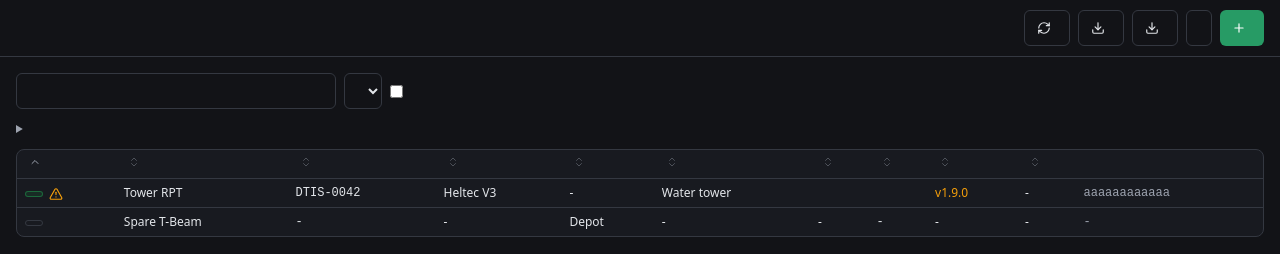
it: Fleet attention, log, vault and key generation › marks assets that need attention and can show only those
This screenshot has width=1280, height=254.
Click the checkbox with test id "fleet-attention-only".
click(396, 91)  # box [390,84,403,98]
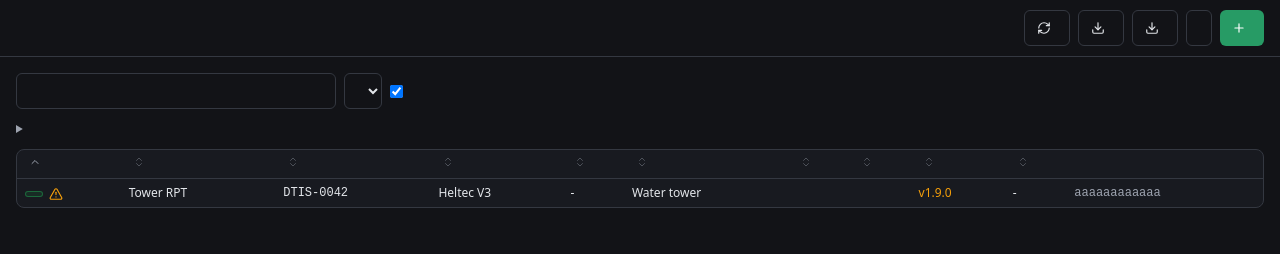
Expected: the row with test id "fleet-asset-1" is shown, [17,178,1263,207]
Result: the row with test id "fleet-asset-2" is gone
